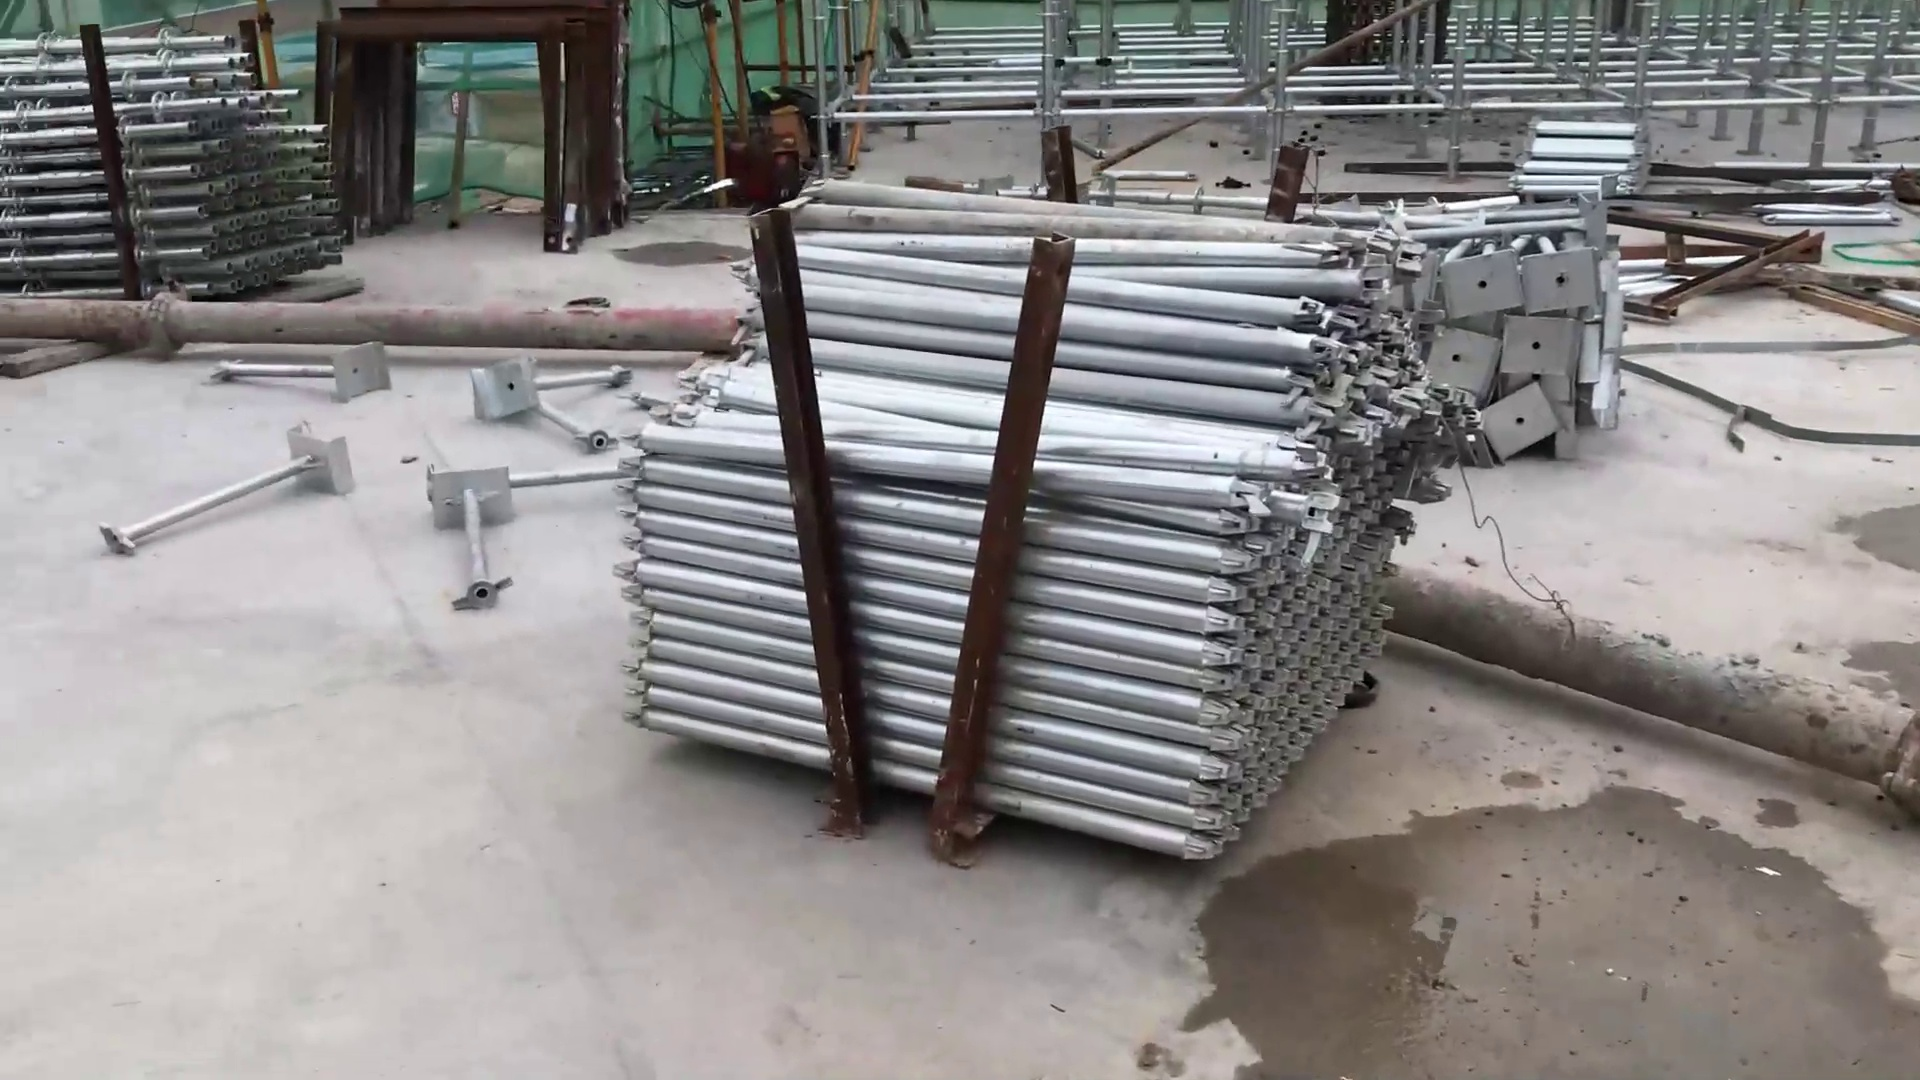scaffold: (588, 185, 1451, 872), (1, 29, 363, 309)
